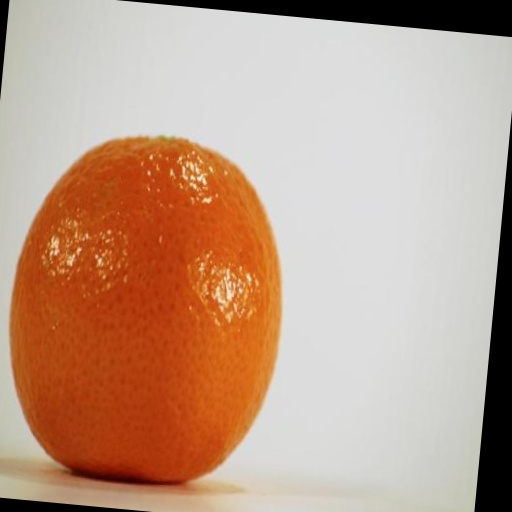fruit: (10, 137, 281, 482)
